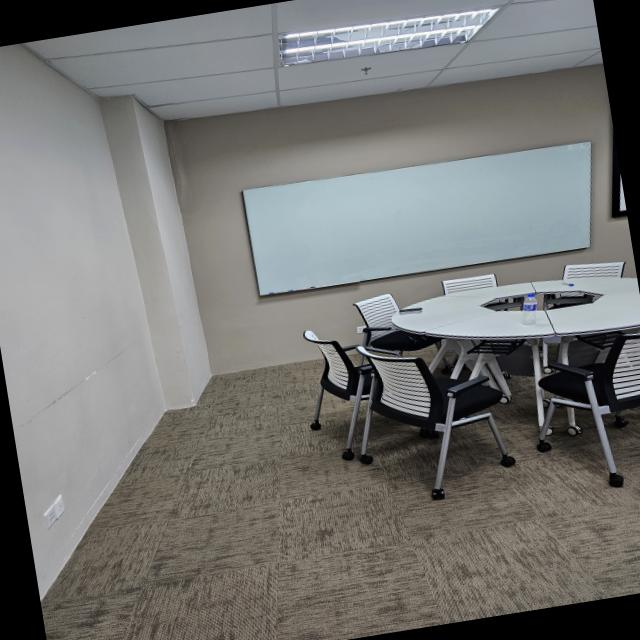footpath: (108, 387, 339, 640)
obstacle: (285, 242, 640, 534)
